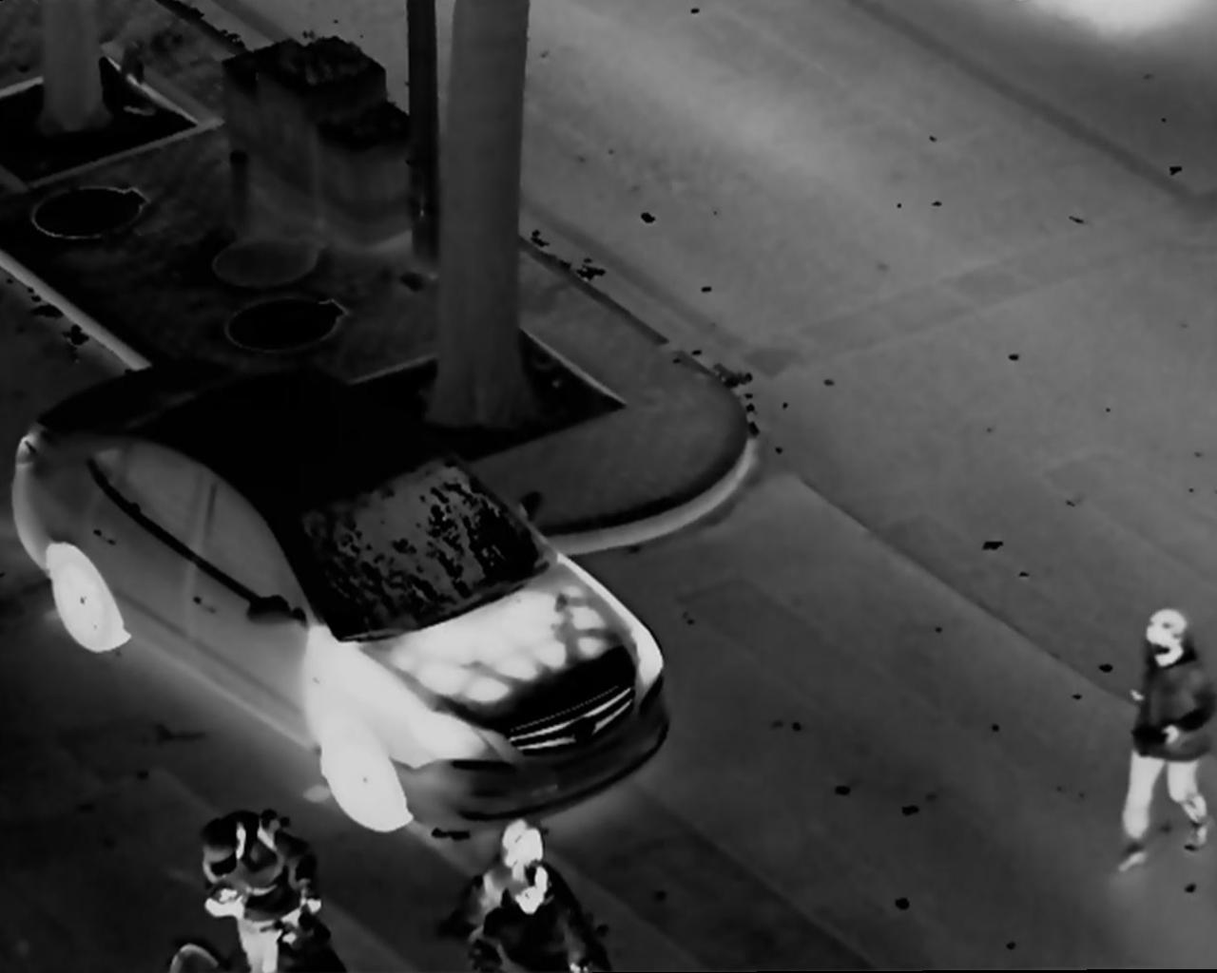person: (1109, 582, 1217, 845), (201, 809, 330, 962), (457, 816, 579, 973)
